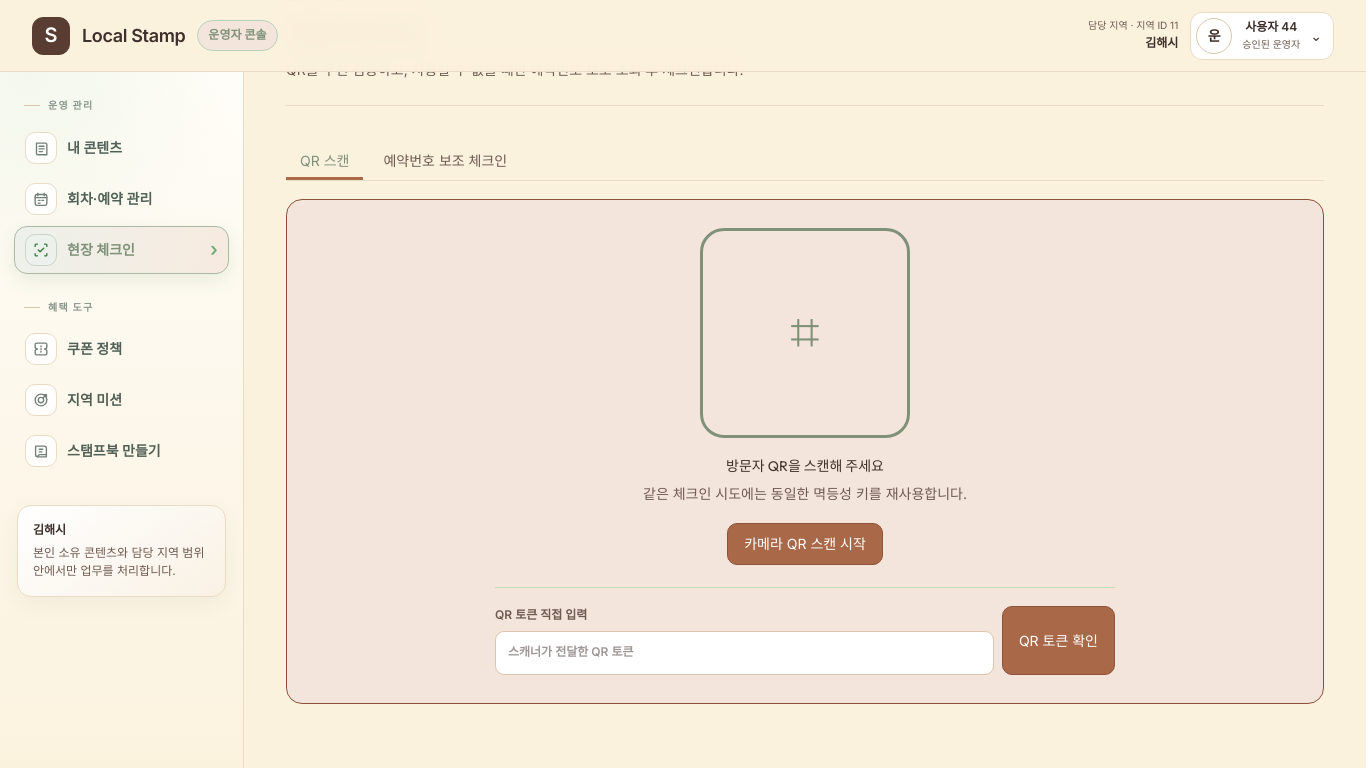
운영자 결제 조회·체크인 프론트 흐름 › QR 성공 후 예약번호를 보강 조회해 예약자 정보를 표시한다
The width and height of the screenshot is (1366, 768).
(page scrolled)
Type "valid-qr-token" into the field with placeholder "스캐너가 전달한 QR 토큰" at {"x": 744, "y": 653}, box x1=495 y1=631 x2=994 y2=675
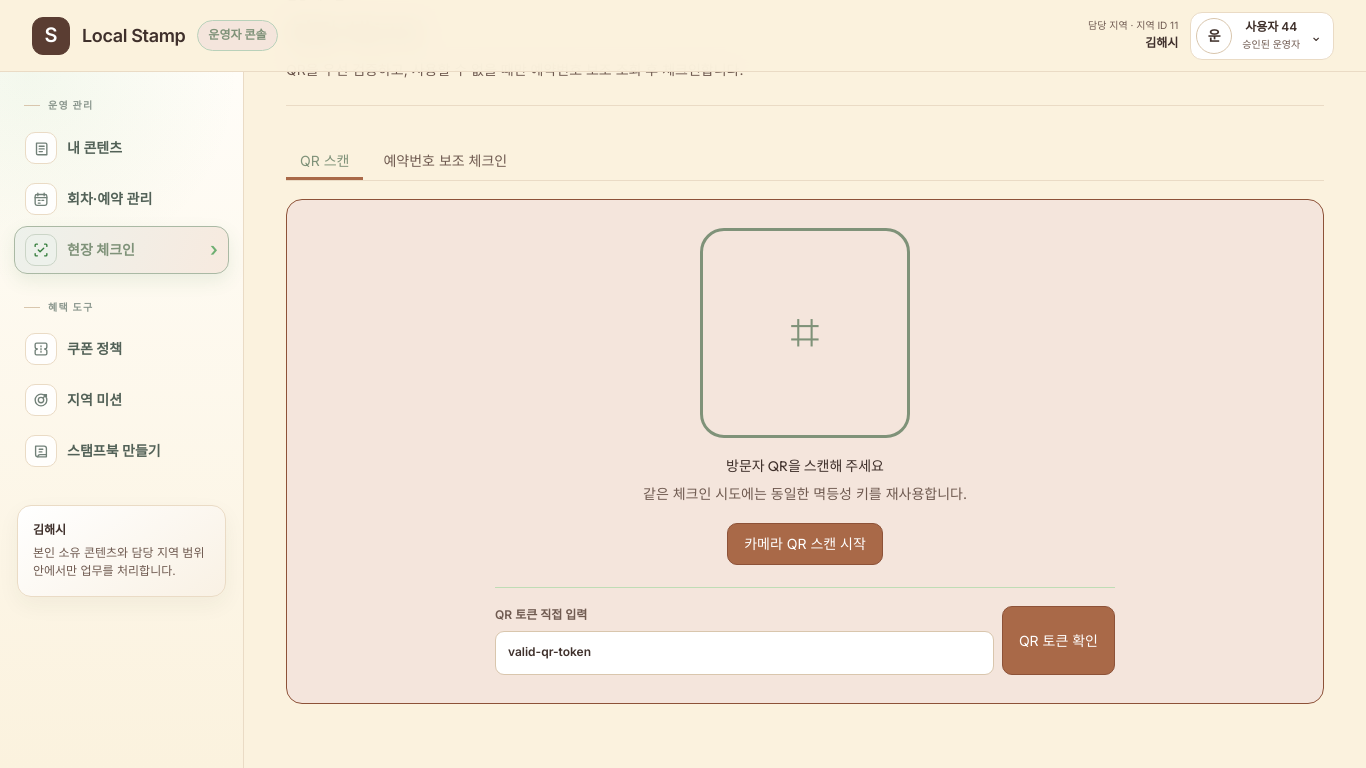
Click the button "QR 토큰 확인" at {"x": 1058, "y": 640}, box x1=1002 y1=606 x2=1115 y2=675
(page scrolled)
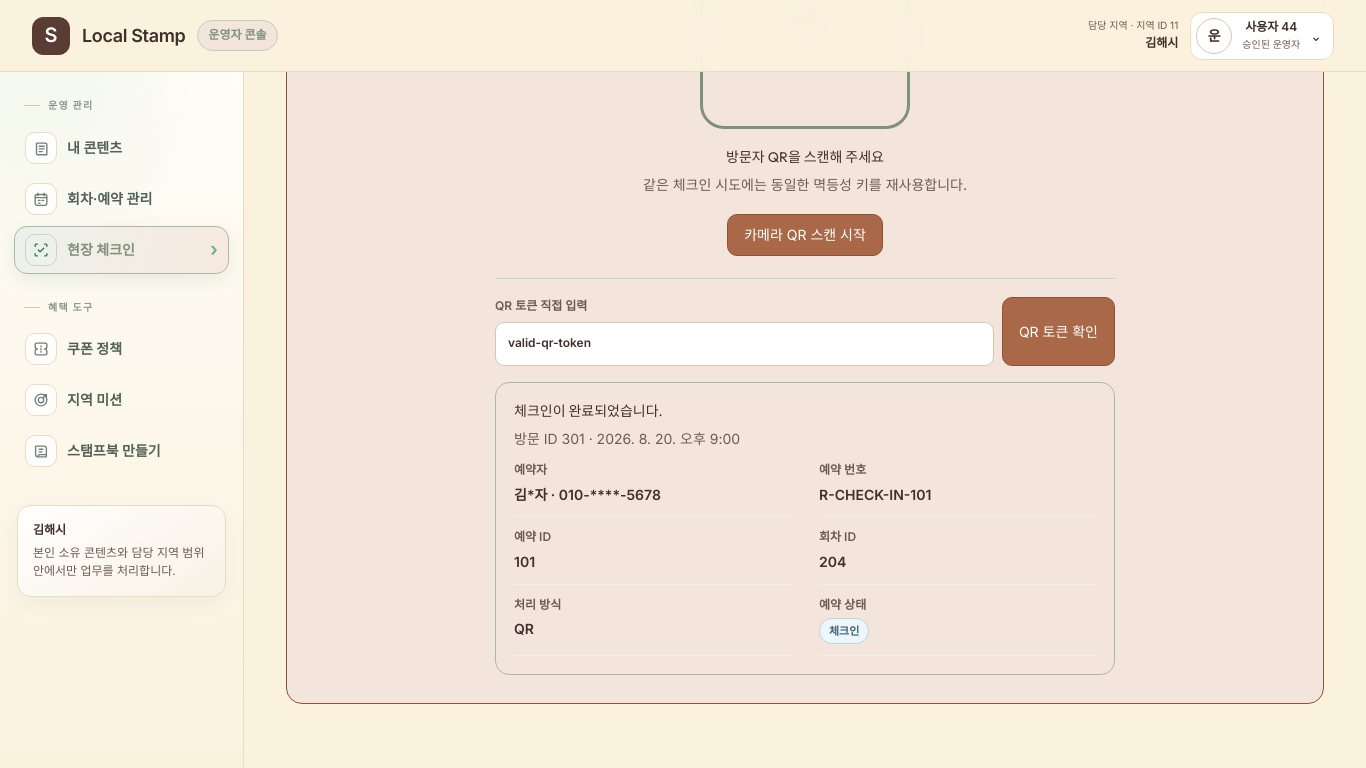
Expected: the heading "체크인이 완료되었습니다." is shown, x1=514 y1=402 x2=663 y2=420
Expected: the text "김*자 · 010-****-5678" is shown, x1=514 y1=486 x2=661 y2=503
